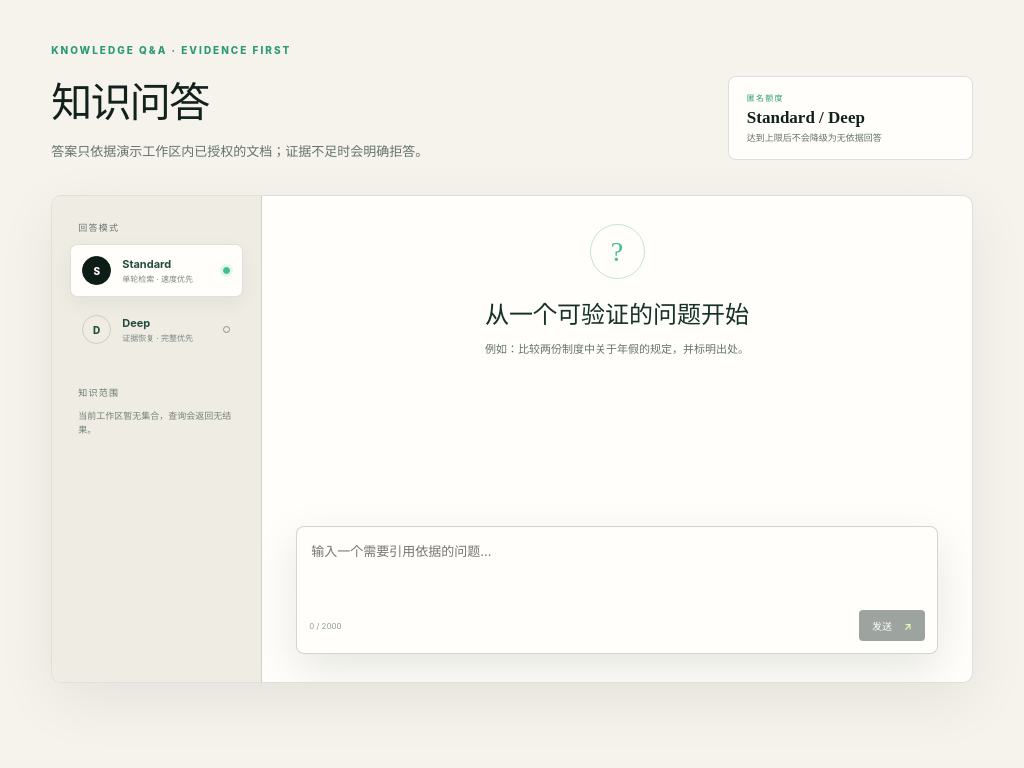
Test case: public chat browser states › renders a successful Deep answer and expandable citations
Click the button with class "mode-option" showing "D Deep 证据恢复 · 完整优先" at {"x": 157, "y": 330}, box [70, 303, 243, 356]
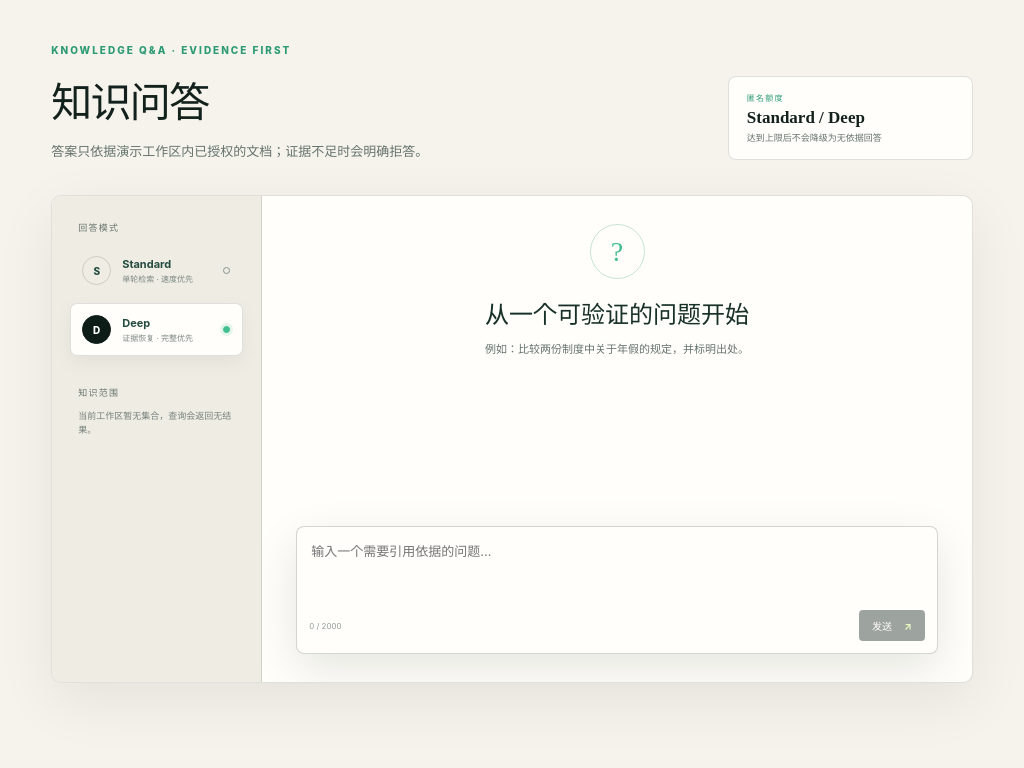
Type "年假政策有什么变化？" into the text box with placeholder "输入一个需要引用依据的问题…" at {"x": 617, "y": 572}, box [309, 539, 925, 605]
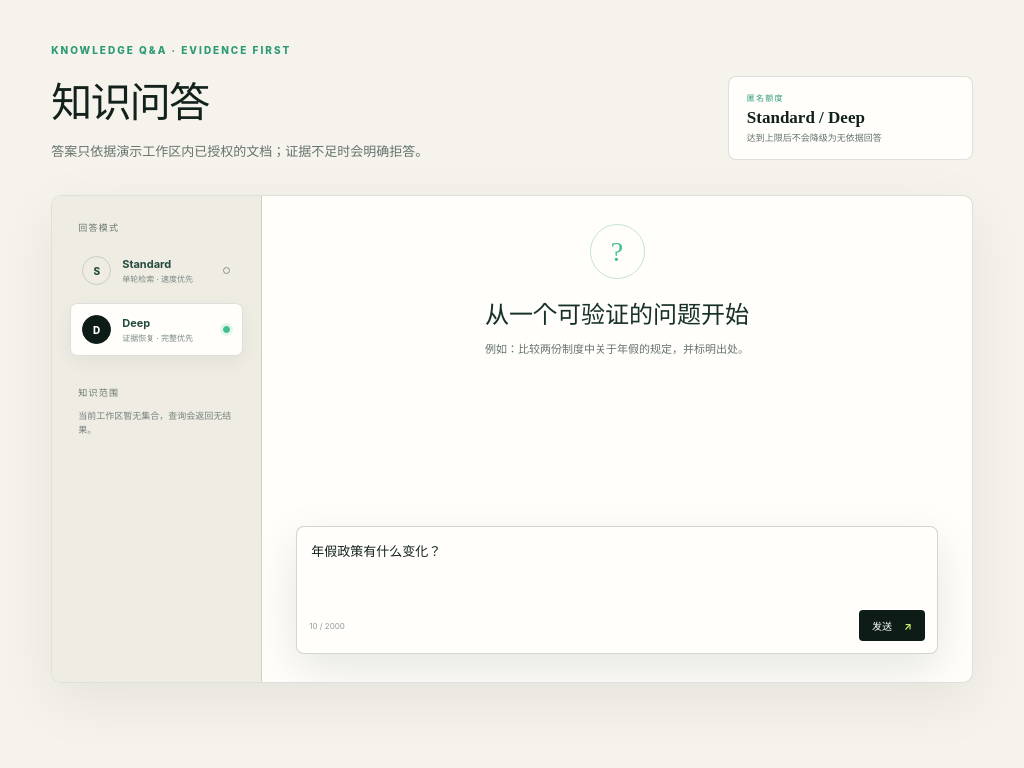
Submit the form with test id "chat-composer", box [296, 526, 938, 654]
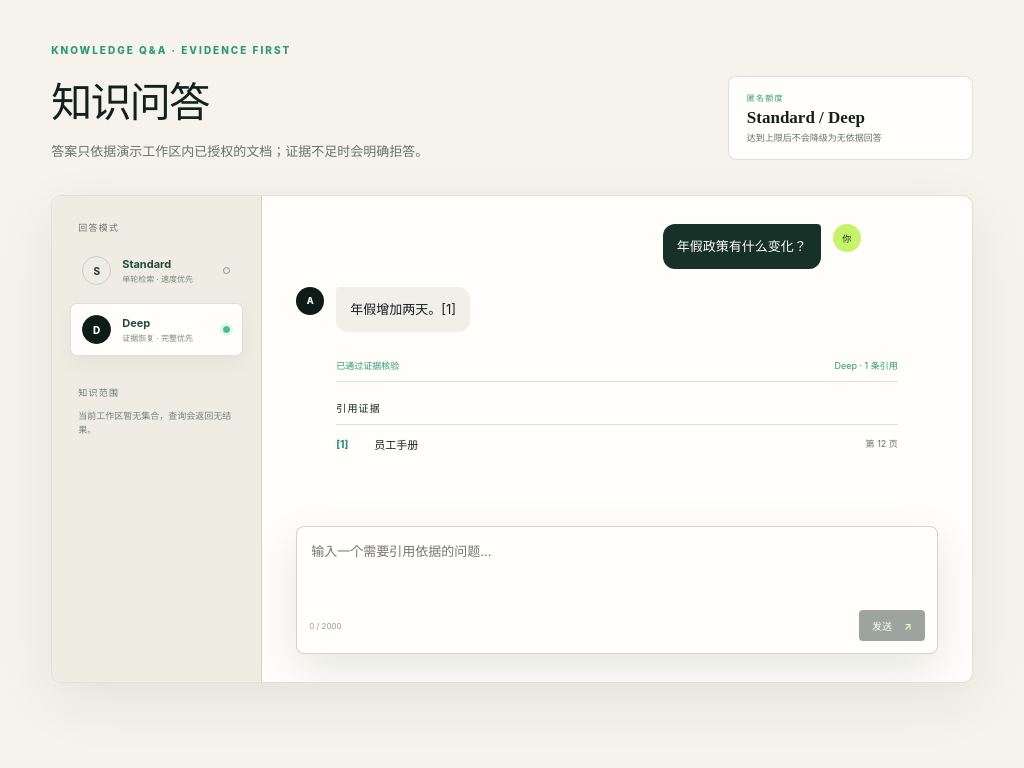
Expected: the text "年假增加两天。[1]" is shown, [336, 287, 470, 332]
Expected: the element with test id "citations" shows "员工手册", [374, 438, 418, 452]
Expected: the text "第 12 页" is shown, [866, 437, 898, 450]
